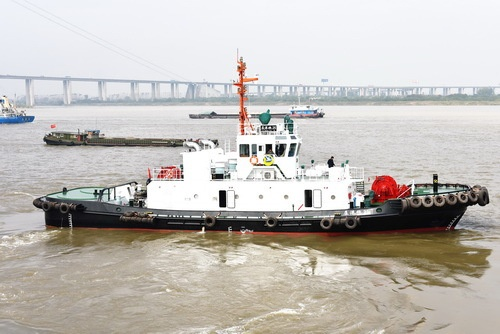Cargoship: (40, 123, 221, 148), (187, 100, 328, 122)
otherboat: (30, 55, 496, 235), (1, 98, 38, 123)
